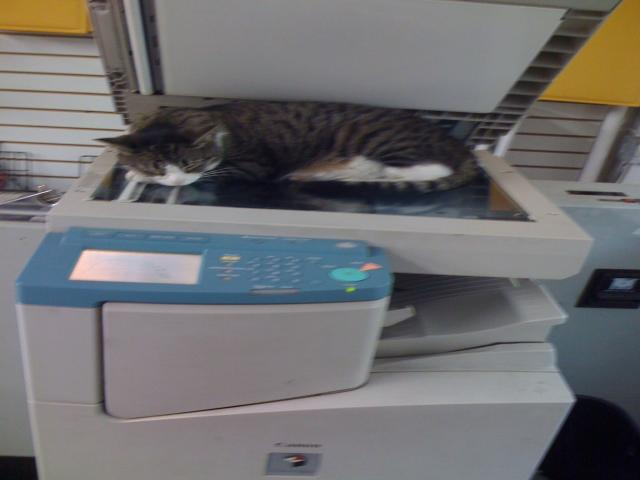Cat: (93, 100, 486, 200)
